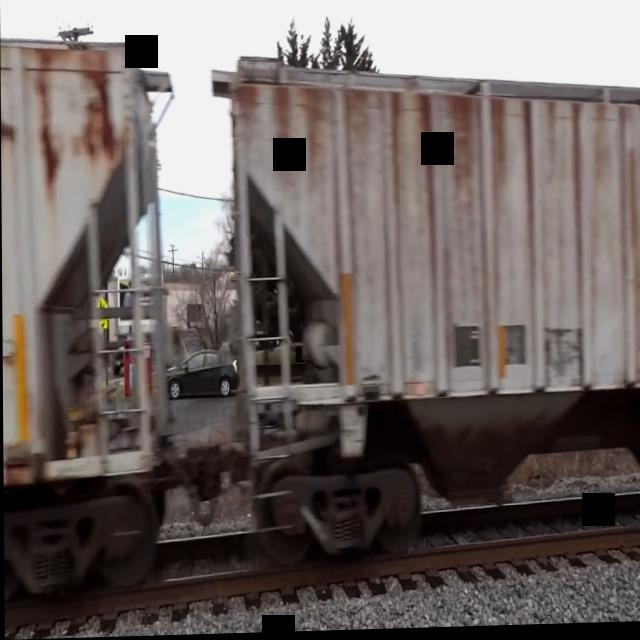hopper: (205, 33, 640, 580), (0, 0, 187, 618)
